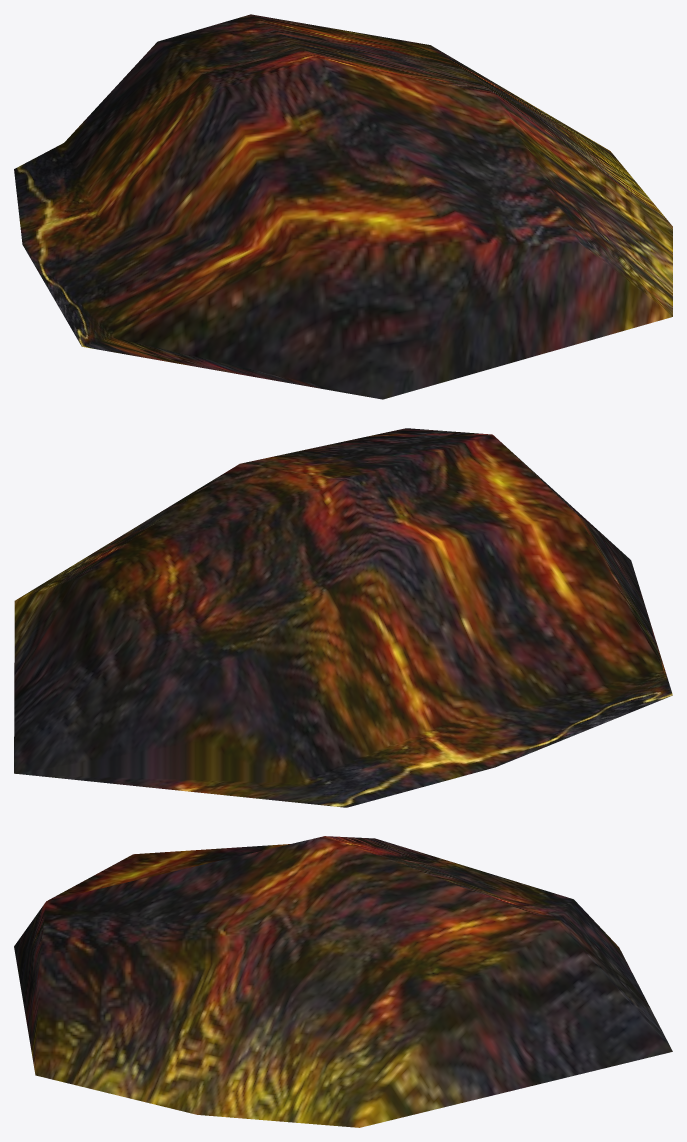
File: pir_m_prp_vol_rockHot_c.fbx
3 views of the same model, one above another, from view 1: azimuth 30°, elevation 25°; view 2: azimuth 150°, elevation 25°; view 3: azimuth 270°, elevation 25° (orthographic). The views are drawn at different scales.
Visible parts, largest first — view 1: lod_high; view 2: lod_high; view 3: lod_high.
Part boxes in pixels (bbox=[...]): lod_high: bbox=[14, 14, 672, 399]; lod_high: bbox=[14, 428, 672, 807]; lod_high: bbox=[14, 836, 672, 1127].
Bounding box in the file's own units: 1696 × 494 × 1856.
1 material, 1 textured.
